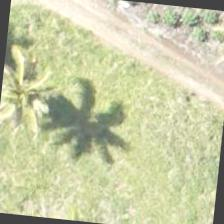Kelapa_Sawit: (0, 39, 70, 136)
